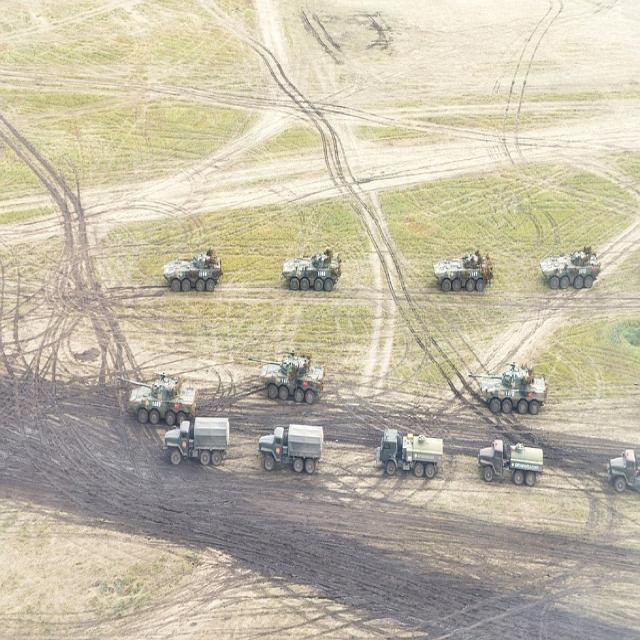tank: (469, 364, 548, 415), (124, 374, 197, 427), (259, 350, 324, 404), (540, 245, 602, 290), (433, 250, 494, 292), (163, 250, 223, 292), (282, 251, 342, 292)
